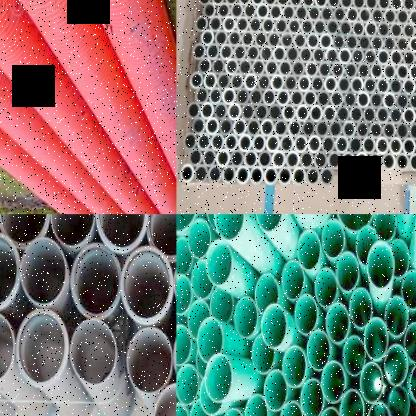pipe: (122, 247, 174, 323), (17, 309, 69, 384), (72, 243, 121, 316), (70, 318, 117, 386), (20, 238, 67, 305), (127, 326, 173, 394), (96, 214, 148, 252), (0, 214, 50, 248), (0, 232, 20, 307), (52, 214, 95, 248), (147, 214, 176, 261), (367, 240, 395, 288), (205, 354, 232, 402), (197, 317, 223, 363), (206, 240, 232, 286), (262, 304, 287, 349), (364, 318, 388, 362), (264, 369, 288, 412), (282, 346, 306, 388), (326, 302, 350, 344), (234, 296, 258, 338), (294, 294, 318, 335), (255, 273, 279, 314), (297, 229, 321, 270), (0, 311, 14, 381), (176, 364, 199, 406), (360, 362, 383, 404), (322, 361, 345, 403), (385, 344, 408, 386), (307, 329, 330, 371), (188, 299, 211, 341), (188, 218, 211, 260), (251, 334, 275, 374), (349, 288, 373, 328), (281, 260, 305, 300), (385, 296, 408, 337), (191, 259, 214, 300), (343, 336, 366, 376), (315, 268, 338, 308), (322, 218, 345, 258), (356, 225, 378, 266), (301, 377, 324, 416), (336, 252, 359, 291), (210, 288, 234, 322), (389, 238, 409, 278), (153, 382, 176, 416), (214, 214, 244, 240), (334, 214, 376, 232), (388, 384, 410, 416), (176, 272, 192, 314), (373, 214, 397, 242), (340, 388, 364, 416), (176, 323, 191, 367), (176, 238, 193, 274), (400, 270, 416, 308), (244, 393, 268, 416), (255, 214, 282, 232), (404, 322, 416, 362), (176, 214, 200, 234), (189, 398, 213, 416), (280, 400, 303, 416), (367, 401, 390, 416), (327, 150, 342, 171), (313, 150, 328, 171), (216, 148, 231, 169), (188, 147, 203, 168), (307, 134, 322, 155), (224, 132, 239, 153), (292, 166, 307, 186), (235, 165, 250, 185), (194, 164, 209, 184), (180, 164, 195, 184), (285, 150, 300, 170), (202, 148, 217, 168), (401, 136, 416, 156), (375, 136, 390, 156), (321, 135, 336, 155), (210, 132, 225, 152), (395, 121, 410, 141), (219, 117, 234, 137), (349, 104, 364, 124), (254, 102, 269, 122), (208, 86, 223, 106), (195, 86, 210, 106), (283, 73, 298, 93), (203, 71, 218, 91), (208, 164, 222, 185), (272, 149, 286, 170), (244, 149, 258, 170), (252, 133, 266, 154), (238, 133, 252, 154), (320, 166, 334, 187), (306, 166, 320, 187), (341, 151, 356, 170), (257, 150, 272, 169), (388, 137, 403, 156), (265, 134, 280, 153), (382, 121, 397, 140), (301, 119, 316, 138), (314, 119, 329, 138), (287, 119, 302, 138), (205, 117, 220, 136), (362, 105, 377, 124), (268, 103, 283, 122), (227, 102, 242, 121), (213, 102, 228, 121), (369, 91, 384, 110), (303, 89, 318, 108), (289, 89, 304, 108), (262, 88, 277, 107), (235, 87, 250, 106), (222, 87, 237, 106), (270, 73, 285, 92), (278, 166, 292, 186), (264, 166, 278, 186), (222, 165, 236, 185), (395, 152, 409, 172), (355, 151, 369, 171), (300, 150, 314, 170), (230, 149, 244, 169), (335, 135, 349, 155), (280, 134, 294, 154), (329, 119, 343, 139), (274, 118, 288, 138), (260, 118, 274, 138), (192, 116, 206, 136), (336, 104, 350, 124), (296, 103, 310, 123), (282, 103, 296, 123), (241, 102, 255, 122), (330, 89, 344, 109), (355, 121, 370, 139), (316, 90, 331, 108), (276, 89, 291, 107), (251, 59, 266, 77), (237, 58, 252, 76), (246, 44, 261, 62), (219, 43, 234, 61), (293, 32, 308, 50), (267, 31, 282, 49), (200, 29, 215, 47), (274, 17, 289, 35), (248, 16, 263, 34), (208, 15, 223, 33), (229, 1, 244, 19), (250, 166, 264, 185), (382, 152, 396, 171), (368, 152, 382, 171), (362, 136, 376, 155), (349, 136, 363, 155), (294, 135, 308, 154), (197, 132, 211, 151), (342, 120, 356, 139), (247, 118, 261, 137), (233, 118, 247, 137), (402, 106, 416, 125), (389, 106, 403, 125), (323, 104, 337, 123), (309, 104, 323, 123), (343, 90, 357, 109), (402, 77, 416, 96), (363, 76, 377, 95), (337, 75, 351, 94), (257, 73, 271, 92), (230, 72, 244, 91), (190, 71, 204, 90), (305, 60, 319, 79), (278, 59, 292, 78), (211, 57, 225, 76), (198, 57, 212, 76), (351, 47, 365, 66), (325, 46, 339, 65), (312, 46, 326, 65), (345, 33, 359, 52), (357, 90, 370, 110), (297, 75, 312, 92), (272, 45, 287, 62), (232, 44, 247, 61), (253, 30, 268, 47), (261, 17, 276, 34), (222, 16, 237, 33), (194, 15, 209, 32), (202, 2, 217, 19), (369, 121, 383, 139), (376, 106, 390, 124), (200, 102, 214, 120), (249, 88, 263, 106), (389, 77, 403, 95), (350, 76, 364, 94), (324, 75, 338, 93), (244, 73, 258, 91), (217, 72, 231, 90), (383, 63, 397, 81), (357, 62, 371, 80), (291, 60, 305, 78), (225, 58, 239, 76), (402, 49, 416, 67), (338, 47, 352, 65), (299, 46, 313, 64), (286, 45, 300, 63), (259, 44, 273, 62), (193, 42, 207, 60), (332, 33, 346, 51), (319, 32, 333, 50), (241, 29, 255, 47), (227, 29, 241, 47), (364, 20, 378, 38), (300, 18, 314, 36), (371, 7, 385, 25), (358, 7, 372, 25), (346, 6, 360, 24), (307, 5, 321, 23), (269, 3, 283, 21), (243, 1, 257, 19), (410, 362, 416, 404), (184, 132, 197, 151), (187, 101, 200, 120), (396, 92, 409, 111), (377, 76, 390, 95), (370, 62, 383, 81), (345, 61, 358, 80), (371, 34, 384, 53), (331, 62, 345, 79), (206, 43, 220, 60), (395, 36, 409, 53), (306, 32, 320, 49), (280, 32, 294, 49), (215, 29, 229, 46), (402, 22, 416, 39), (377, 21, 391, 38), (287, 18, 301, 35), (235, 16, 249, 33), (295, 4, 309, 21), (282, 4, 296, 21), (217, 2, 231, 19), (383, 92, 396, 110), (311, 75, 324, 93), (396, 63, 409, 81), (318, 61, 331, 79), (265, 59, 278, 77), (364, 48, 377, 66), (358, 34, 371, 52), (396, 8, 409, 26), (333, 6, 346, 24), (256, 2, 269, 20), (383, 36, 397, 52), (389, 22, 403, 38), (390, 49, 403, 66), (377, 49, 390, 66), (339, 20, 352, 37), (326, 19, 339, 36), (313, 19, 326, 36), (384, 8, 397, 25), (321, 6, 334, 23), (318, 407, 342, 416), (352, 21, 365, 37), (220, 408, 245, 416), (176, 404, 190, 416), (402, 0, 415, 12), (389, 0, 403, 11), (377, 0, 391, 11), (408, 8, 416, 26), (409, 121, 416, 141), (409, 153, 416, 172), (365, 0, 378, 10), (352, 0, 365, 10), (409, 92, 416, 110), (409, 63, 416, 81), (339, 0, 353, 9), (409, 36, 416, 52), (327, 0, 341, 8), (314, 0, 327, 8), (288, 0, 302, 7), (302, 0, 315, 7), (276, 0, 290, 6), (251, 0, 264, 6), (263, 0, 276, 6), (211, 0, 224, 6), (199, 0, 212, 6), (237, 0, 251, 5), (224, 0, 238, 5), (414, 0, 416, 12), (415, 169, 416, 189), (415, 138, 416, 157), (415, 77, 416, 96), (415, 107, 416, 125), (415, 50, 416, 67), (415, 22, 416, 39)
